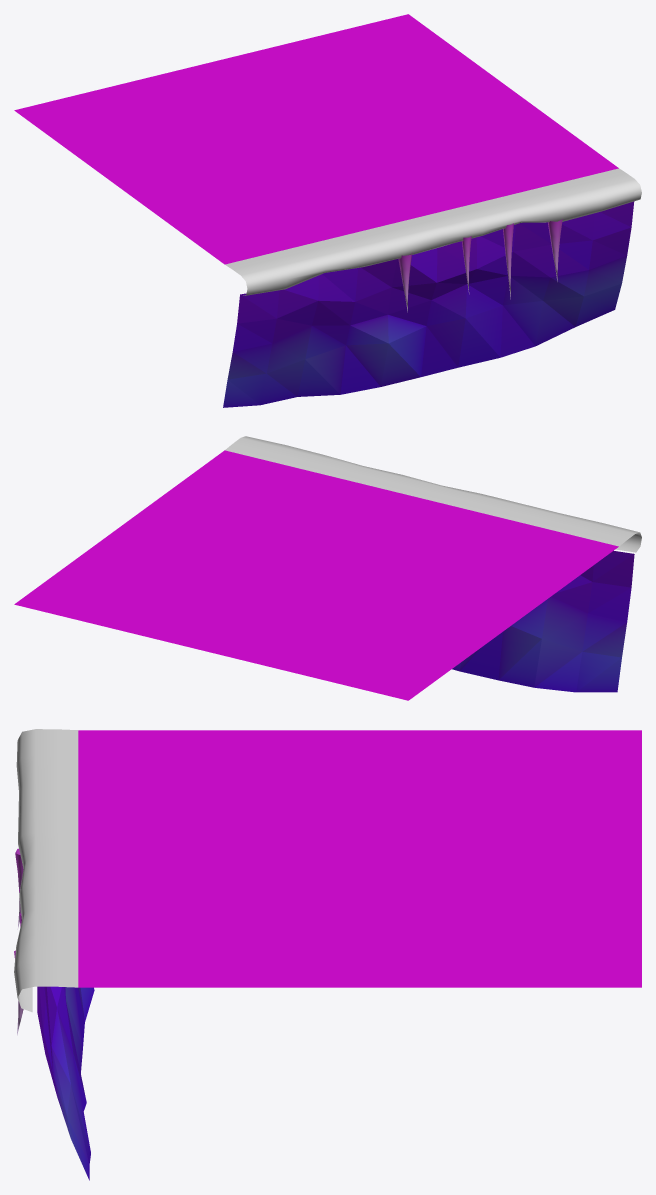
Rendered from Kit_Ice_Edge_4_B.fbx.
3 views of the same model, one above another, from view 1: azimuth 30°, elevation 25°; view 2: azimuth 150°, elevation 25°; view 3: azimuth 270°, elevation 25° (orthographic). The views are drawn at different scales.
Visible parts, largest first — view 1: Ice_Edge_4_B; view 2: Ice_Edge_4_B; view 3: Ice_Edge_4_B.
Boxes of the visible parts, x1=… form: Ice_Edge_4_B: x1=14, y1=14, x2=641, y2=407; Ice_Edge_4_B: x1=14, y1=436, x2=641, y2=700; Ice_Edge_4_B: x1=14, y1=729, x2=641, y2=1180.
Bounding box in the file's own units: 4 × 1.59 × 4.12.
